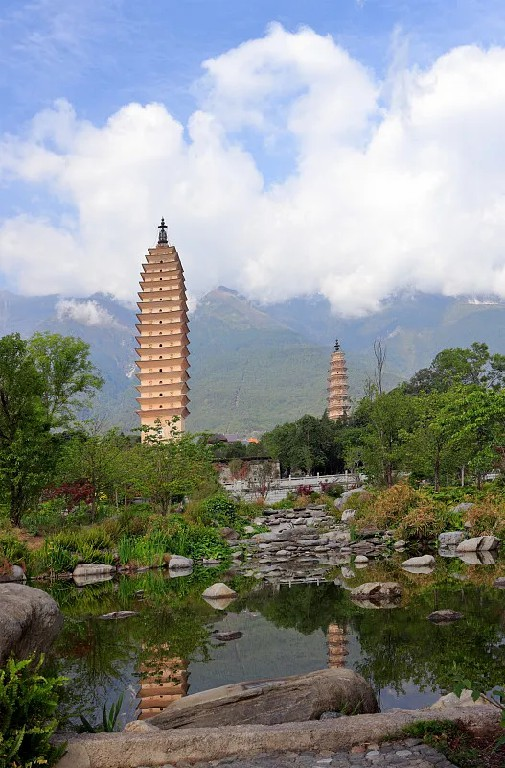ThreePagoda: (136, 218, 190, 445)
